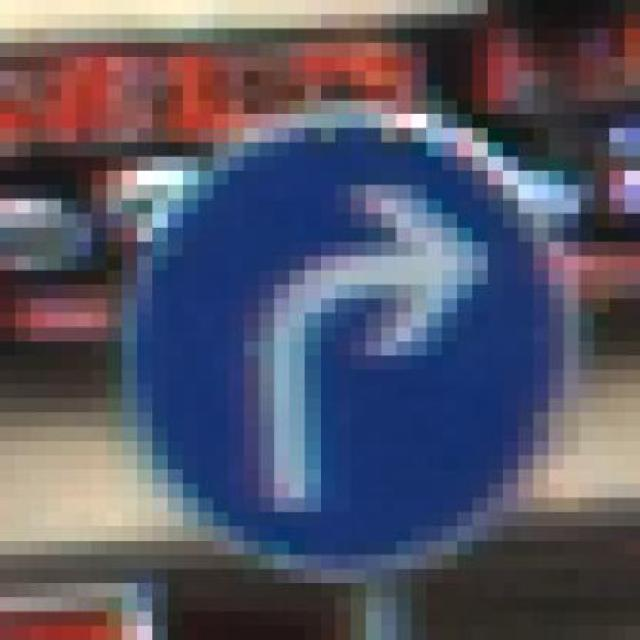Turn right ahead: (107, 114, 579, 583)
